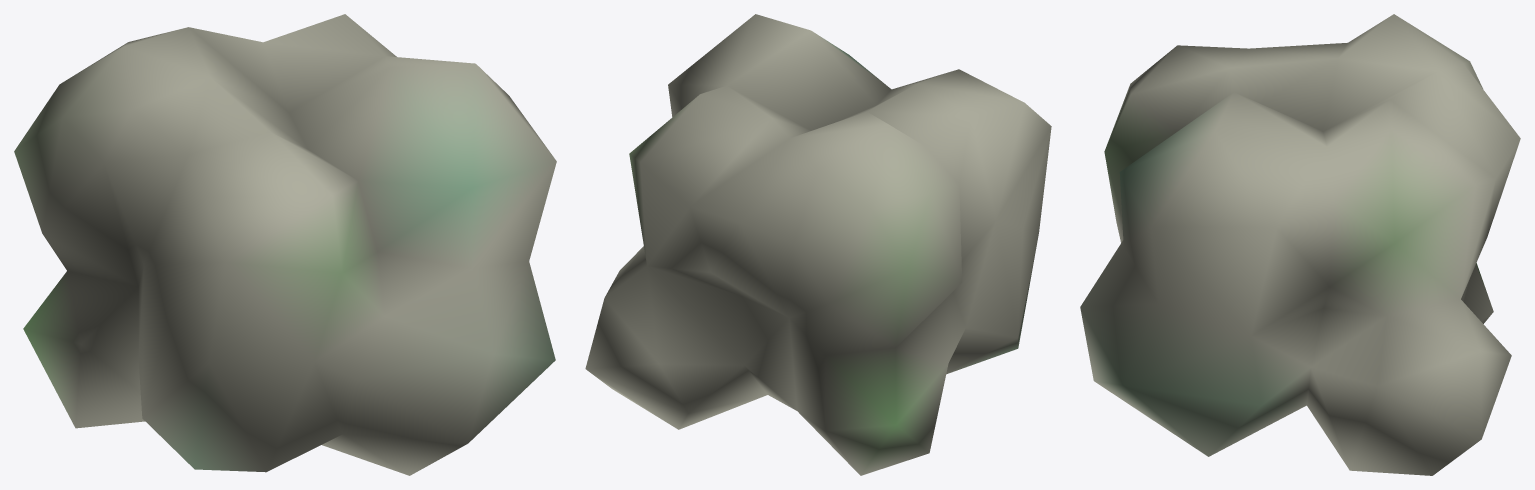
The model's file is borosilicate.glb.
3 renders of one model, left to right at view 1: azimuth 30°, elevation 25°; view 2: azimuth 150°, elevation 25°; view 3: azimuth 270°, elevation 25°, orthographic. The views are drawn at different scales.
Visible parts, largest first — view 1: borosilicate; view 2: borosilicate; view 3: borosilicate.
Part boxes in pixels (left/top/right/bottom): borosilicate: left=14, top=14, right=556, bottom=475; borosilicate: left=585, top=14, right=1051, bottom=475; borosilicate: left=1080, top=14, right=1520, bottom=475.
Bounding box in the file's own units: 1.43 × 1.32 × 1.49.
